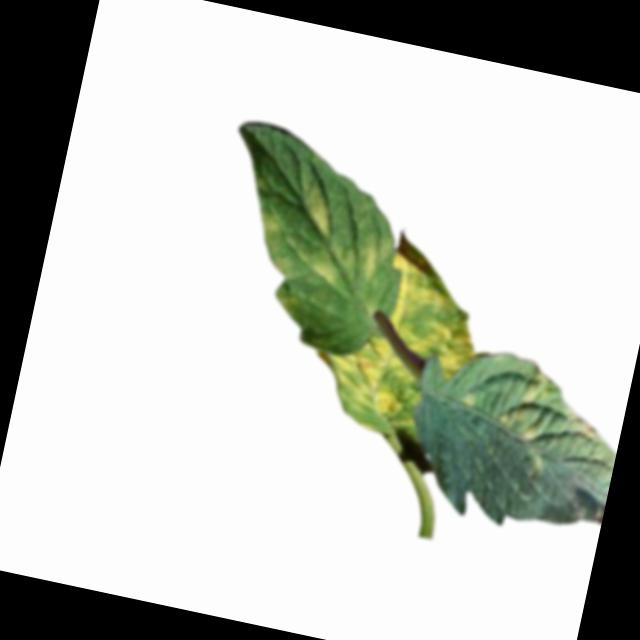Leaf_Mold: (368, 231, 496, 386), (306, 326, 438, 441), (487, 362, 611, 483), (297, 223, 396, 297), (299, 183, 341, 238), (254, 206, 295, 241)
